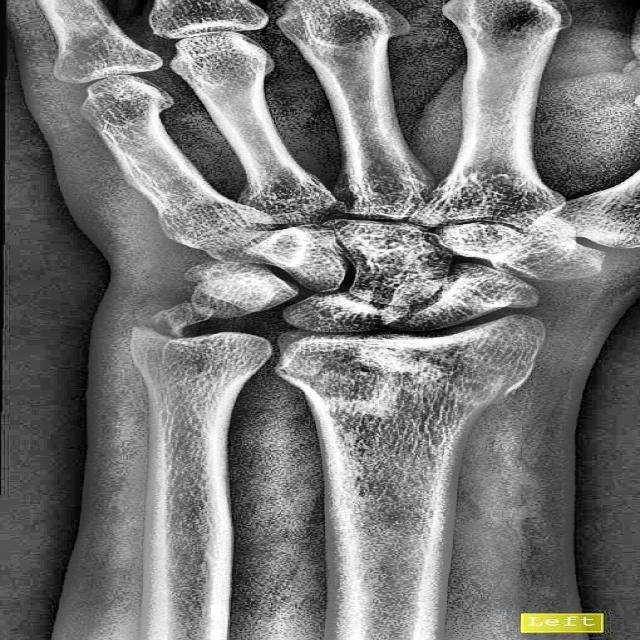messed_up_angle: (123, 303, 215, 344)
